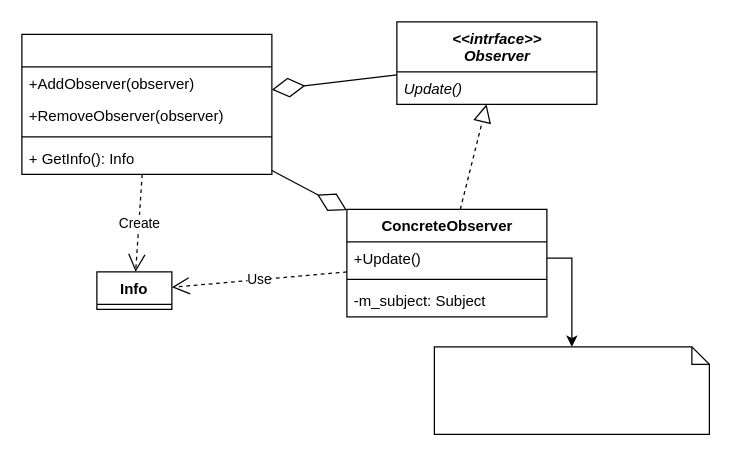
This 731x460 diagram has some shape labels left out. The shapes that lost their labels are listed below. From the top down, each one's box as (x1, y1, x2, y2) in pixels, then its label:
(21, 33, 272, 174): Subject
(433, 346, 709, 434): void ConcreteObserver::Update() { Info info = m_subject.GetInfo(); ... }
